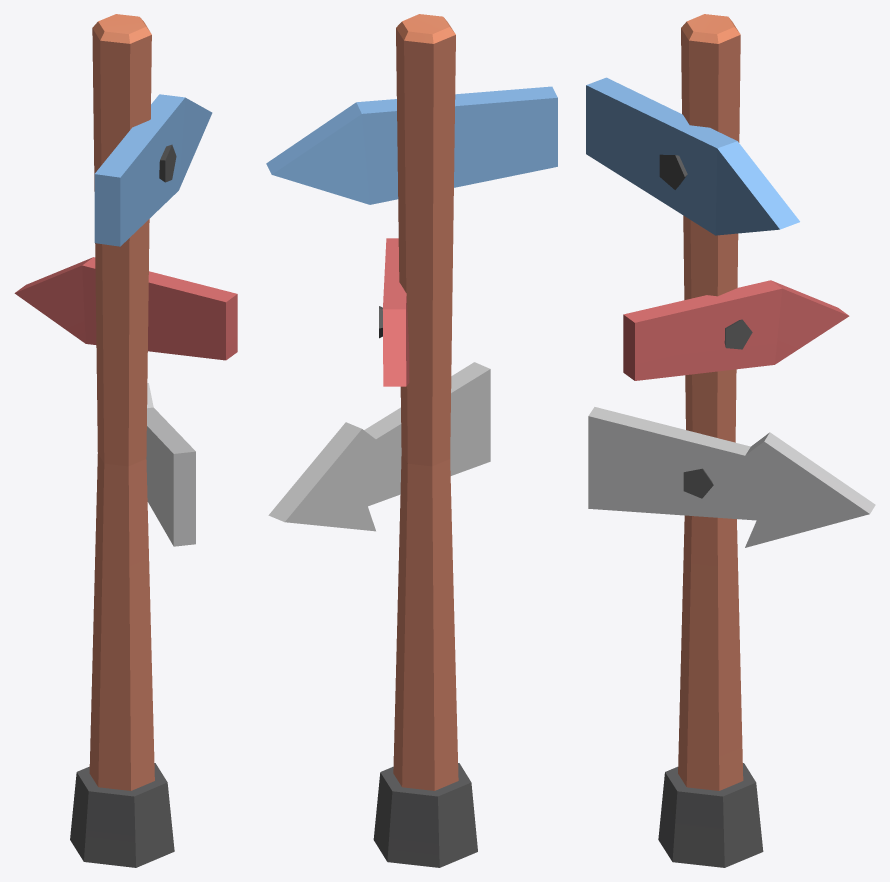
The model's file is pointer.glb.
3 views of the same model, side by side, from view 1: azimuth 30°, elevation 25°; view 2: azimuth 150°, elevation 25°; view 3: azimuth 270°, elevation 25° (orthographic).
Parts seen in each view (by area): view 1: pointer_001.002; view 2: pointer_001.002; view 3: pointer_001.002.
Part boxes in pixels (x1,y1,x2,y2): pointer_001.002: [14, 14, 237, 867]; pointer_001.002: [266, 14, 557, 867]; pointer_001.002: [586, 14, 875, 867].
Bounding box in the file's own units: 0.567 × 2.17 × 0.6944.
1 material, 1 textured.
